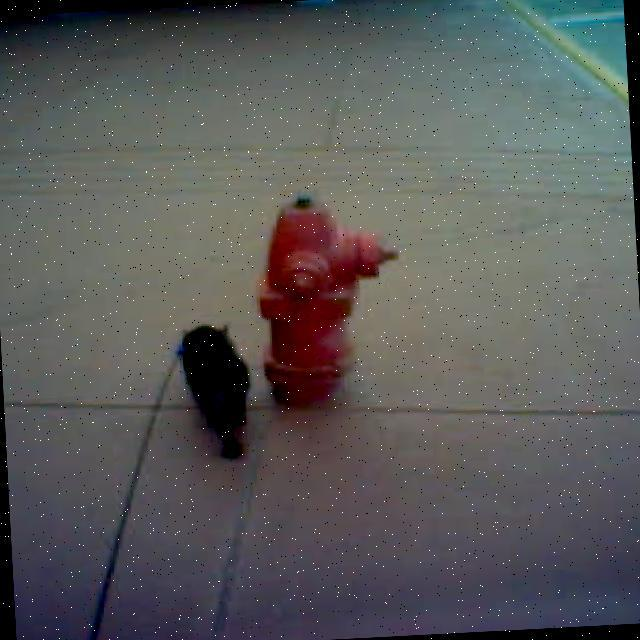fire_hydrant: (249, 187, 402, 410)
